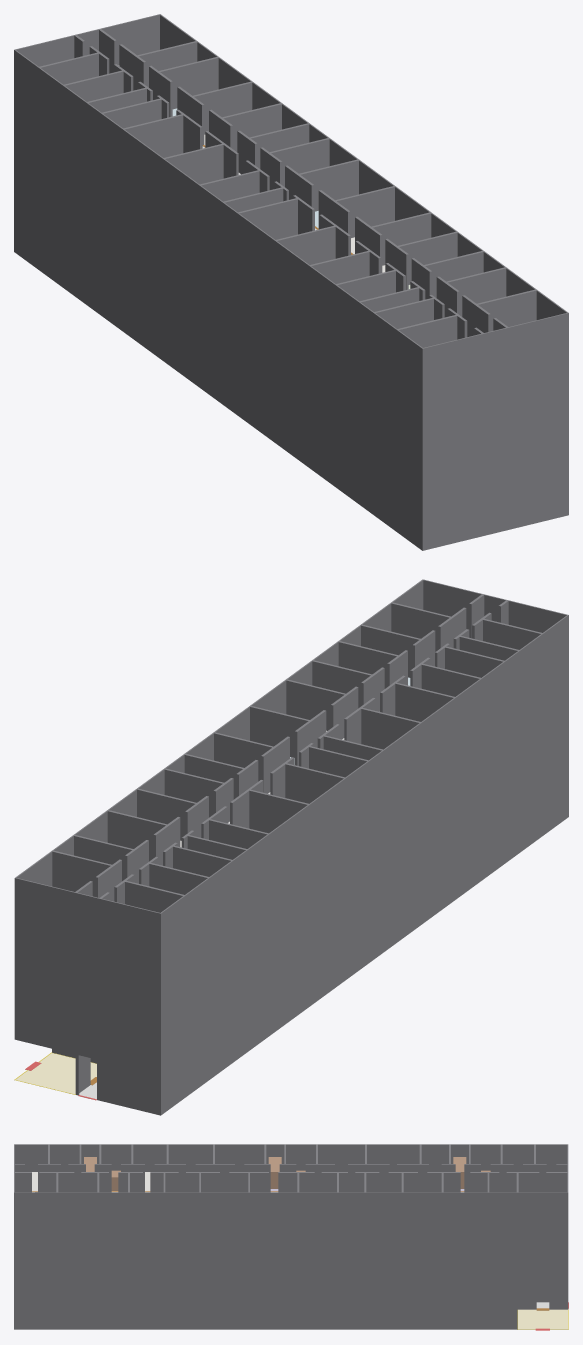
Rendered from floorplan.glb.
3 renders of one model, top to bottom at view 1: azimuth 30°, elevation 25°; view 2: azimuth 150°, elevation 25°; view 3: azimuth 270°, elevation 25°, orthographic. The views are drawn at different scales.
Visible parts, largest first — view 1: walls:proc-campus-dev-000-F4-S001, walls:proc-campus-dev-000-F4-S017, walls:proc-campus-dev-000-F4-S031, walls:proc-campus-dev-000-F4-S007, walls:proc-campus-dev-000-F4-S011, walls:proc-campus-dev-000-F3-S017, walls:proc-campus-dev-000-F1-S017, walls:proc-campus-dev-000-F2-S017, walls:proc-campus-dev-000-F0-S017, walls:proc-campus-dev-000-F4-S008, walls:proc-campus-dev-000-F4-S012, walls:proc-campus-dev-000-F4-S013 (+79 smaller); view 2: walls:proc-campus-dev-000-F4-S001, walls:proc-campus-dev-000-F4-S002, walls:proc-campus-dev-000-F4-S018, walls:proc-campus-dev-000-F4-S007, walls:proc-campus-dev-000-F4-S011, walls:proc-campus-dev-000-F4-S008, walls:proc-campus-dev-000-F1-S002, walls:proc-campus-dev-000-F3-S002, walls:proc-campus-dev-000-F0-S002, walls:proc-campus-dev-000-F2-S002, walls:proc-campus-dev-000-F4-S012, walls:proc-campus-dev-000-F4-S013 (+79 smaller); view 3: walls:proc-campus-dev-000-F4-S001, walls:proc-campus-dev-000-F0-S027, walls:proc-campus-dev-000-F4-S018, walls:proc-campus-dev-000-F4-S025, walls:proc-campus-dev-000-F4-S026, walls:proc-campus-dev-000-F4-S020, walls:proc-campus-dev-000-F4-S031, walls:proc-campus-dev-000-F0-S028, walls:proc-campus-dev-000-F4-S030, walls:proc-campus-dev-000-F4-S024, walls:proc-campus-dev-000-F4-S021, walls:proc-campus-dev-000-F4-S022 (+75 smaller).
Part boxes in pixels (<box>): walls:proc-campus-dev-000-F4-S001: <box>75,29,507,373</box>; walls:proc-campus-dev-000-F4-S017: <box>396,315,483,389</box>; walls:proc-campus-dev-000-F4-S031: <box>476,290,568,368</box>; walls:proc-campus-dev-000-F4-S007: <box>122,114,223,198</box>; walls:proc-campus-dev-000-F4-S011: <box>237,198,335,280</box>; walls:proc-campus-dev-000-F3-S017: <box>396,370,483,429</box>; walls:proc-campus-dev-000-F1-S017: <box>396,451,483,510</box>; walls:proc-campus-dev-000-F2-S017: <box>396,411,483,469</box>; walls:proc-campus-dev-000-F0-S017: <box>396,492,483,550</box>; walls:proc-campus-dev-000-F4-S008: <box>163,144,259,225</box>; walls:proc-campus-dev-000-F4-S012: <box>275,226,369,305</box>; walls:proc-campus-dev-000-F4-S013: <box>309,251,395,324</box>; walls:proc-campus-dev-000-F4-S001: <box>75,594,507,938</box>; walls:proc-campus-dev-000-F4-S002: <box>100,881,185,953</box>; walls:proc-campus-dev-000-F4-S018: <box>14,851,112,933</box>; walls:proc-campus-dev-000-F4-S007: <box>209,790,309,874</box>; walls:proc-campus-dev-000-F4-S011: <box>323,708,421,790</box>; walls:proc-campus-dev-000-F4-S008: <box>249,763,345,844</box>; walls:proc-campus-dev-000-F1-S002: <box>100,1017,185,1075</box>; walls:proc-campus-dev-000-F3-S002: <box>100,936,185,994</box>; walls:proc-campus-dev-000-F0-S002: <box>100,1058,185,1115</box>; walls:proc-campus-dev-000-F2-S002: <box>100,977,185,1034</box>; walls:proc-campus-dev-000-F4-S012: <box>361,683,455,762</box>; walls:proc-campus-dev-000-F4-S013: <box>395,664,481,737</box>; walls:proc-campus-dev-000-F4-S001: <box>14,1164,568,1192</box>; walls:proc-campus-dev-000-F0-S027: <box>129,1302,248,1329</box>; walls:proc-campus-dev-000-F4-S018: <box>517,1172,568,1219</box>; walls:proc-campus-dev-000-F4-S025: <box>249,1172,298,1219</box>; walls:proc-campus-dev-000-F4-S026: <box>200,1172,248,1219</box>; walls:proc-campus-dev-000-F4-S020: <box>442,1172,488,1219</box>; walls:proc-campus-dev-000-F4-S031: <box>14,1172,57,1219</box>; walls:proc-campus-dev-000-F0-S028: <box>298,1302,365,1329</box>; walls:proc-campus-dev-000-F4-S030: <box>57,1172,98,1219</box>; walls:proc-campus-dev-000-F4-S024: <box>298,1172,337,1219</box>; walls:proc-campus-dev-000-F4-S021: <box>402,1172,442,1219</box>; walls:proc-campus-dev-000-F4-S022: <box>365,1172,402,1219</box>.
Bounding box in the file's own units: 14.7 × 19 × 69.7.
